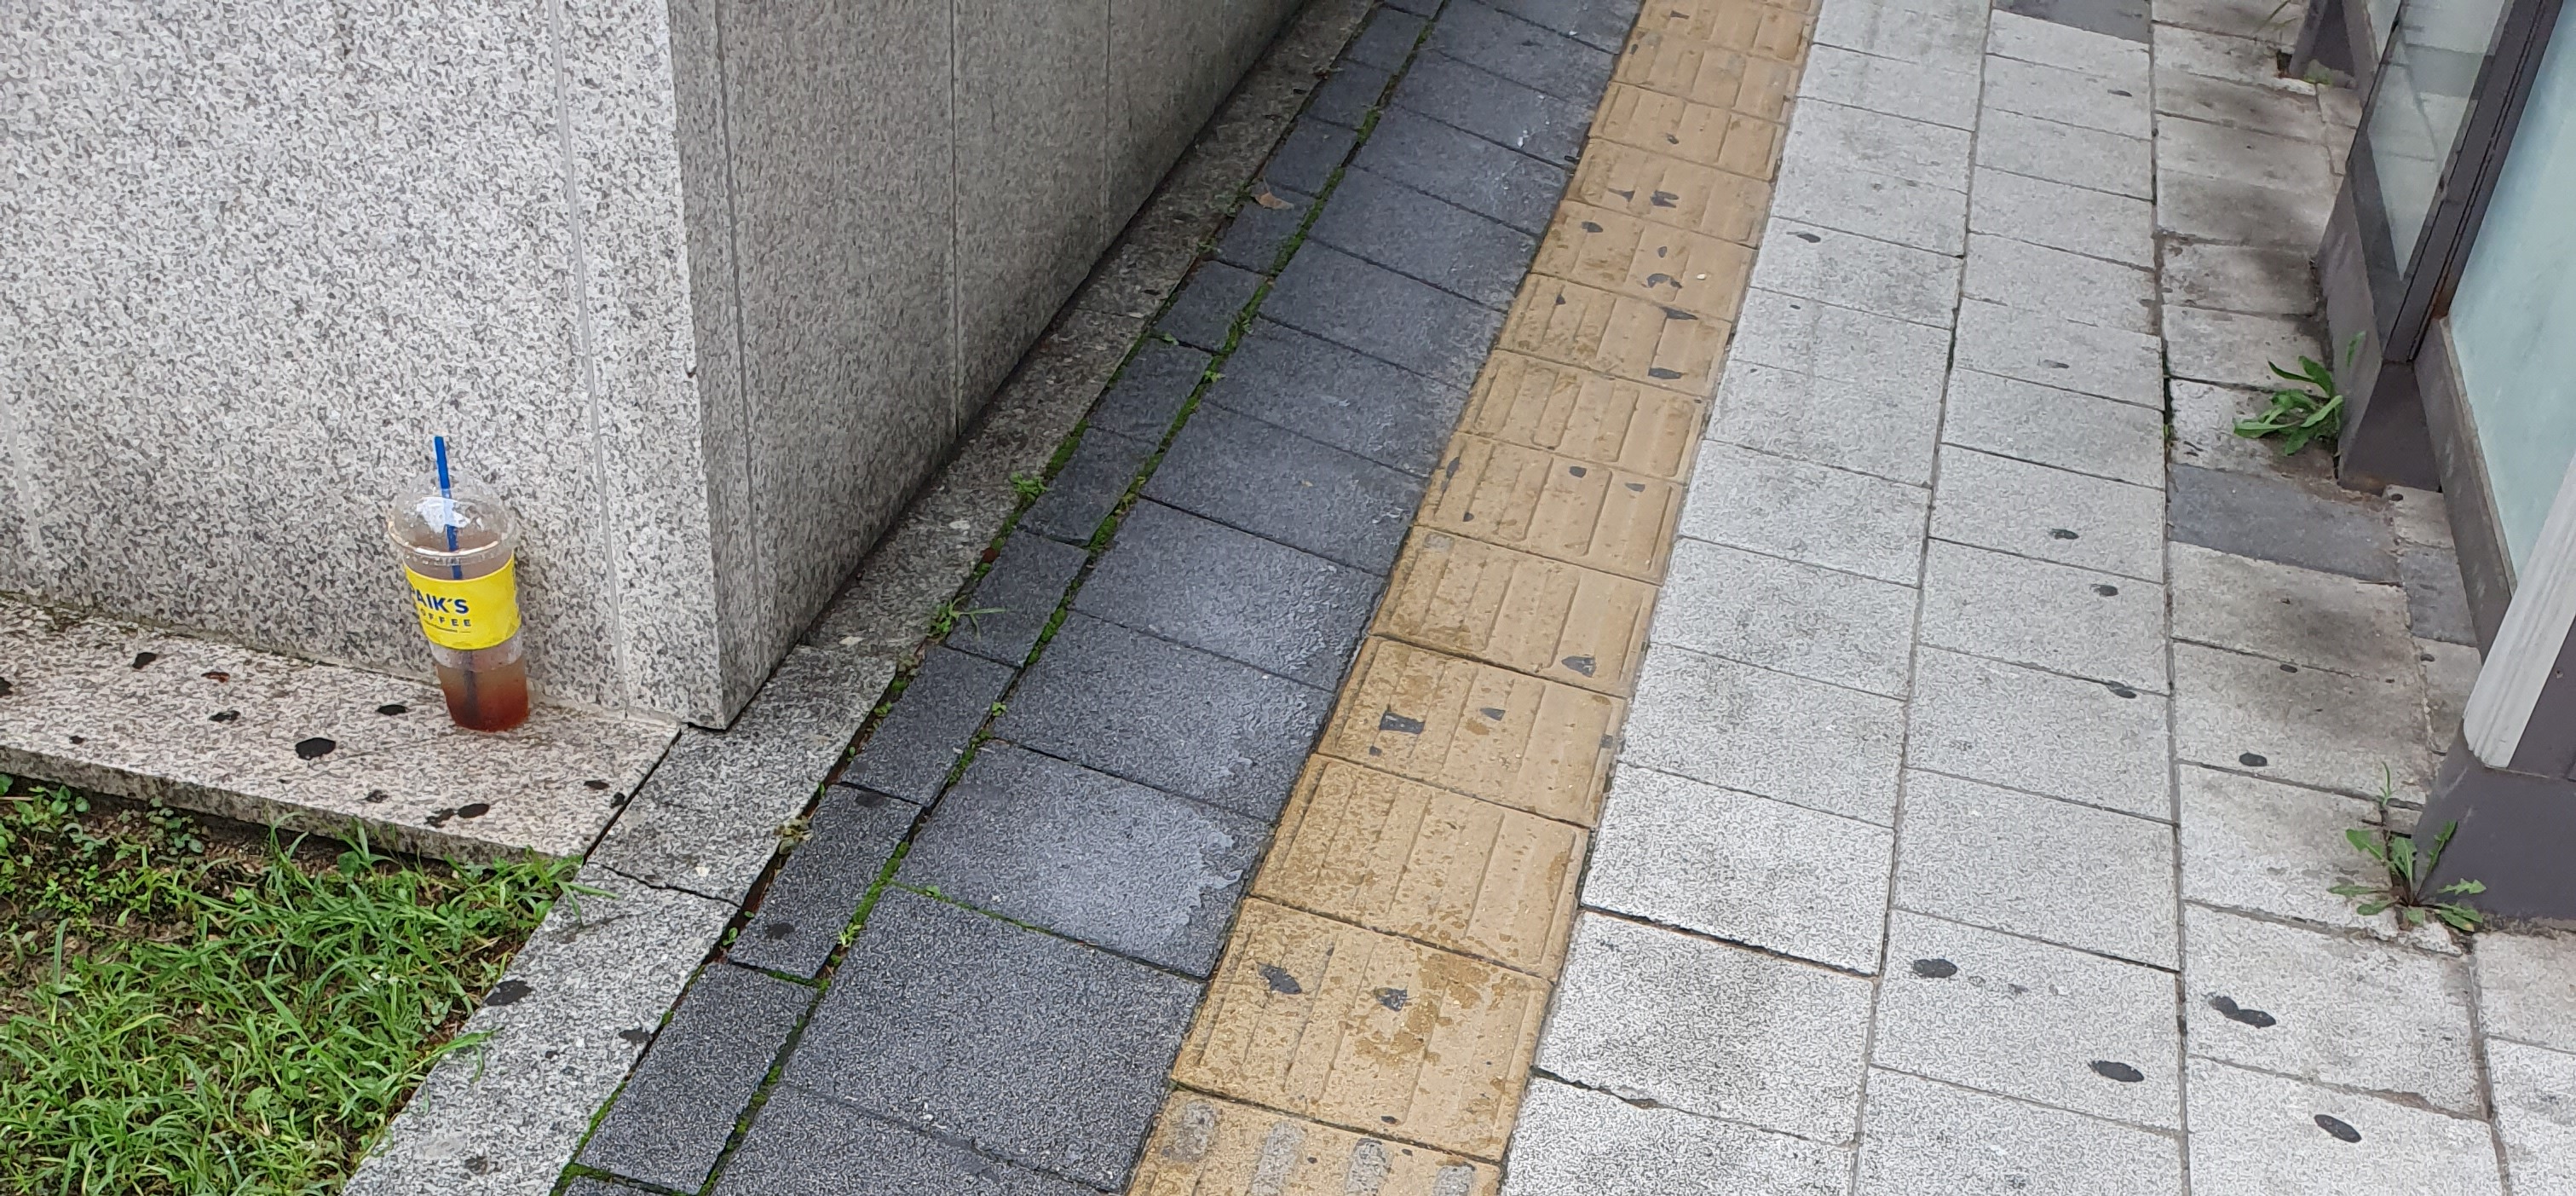guideBlock: (1242, 885, 1554, 1181), (1321, 766, 1569, 961), (1360, 657, 1594, 838), (1442, 542, 1661, 701), (1452, 434, 1648, 578), (1615, 140, 1771, 291), (1548, 286, 1695, 414), (1506, 363, 1658, 488), (1592, 223, 1713, 324)
